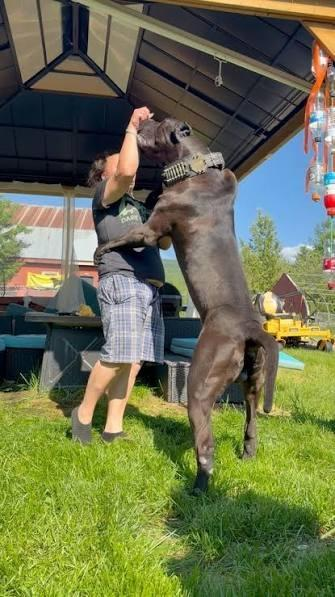adult_dog: (94, 119, 282, 496)
non-dog: (69, 104, 165, 452)
